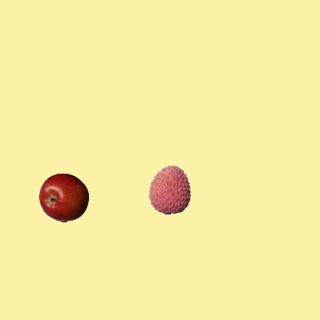Apple Braeburn: (38, 172, 88, 222)
Lychee: (144, 164, 194, 214)
